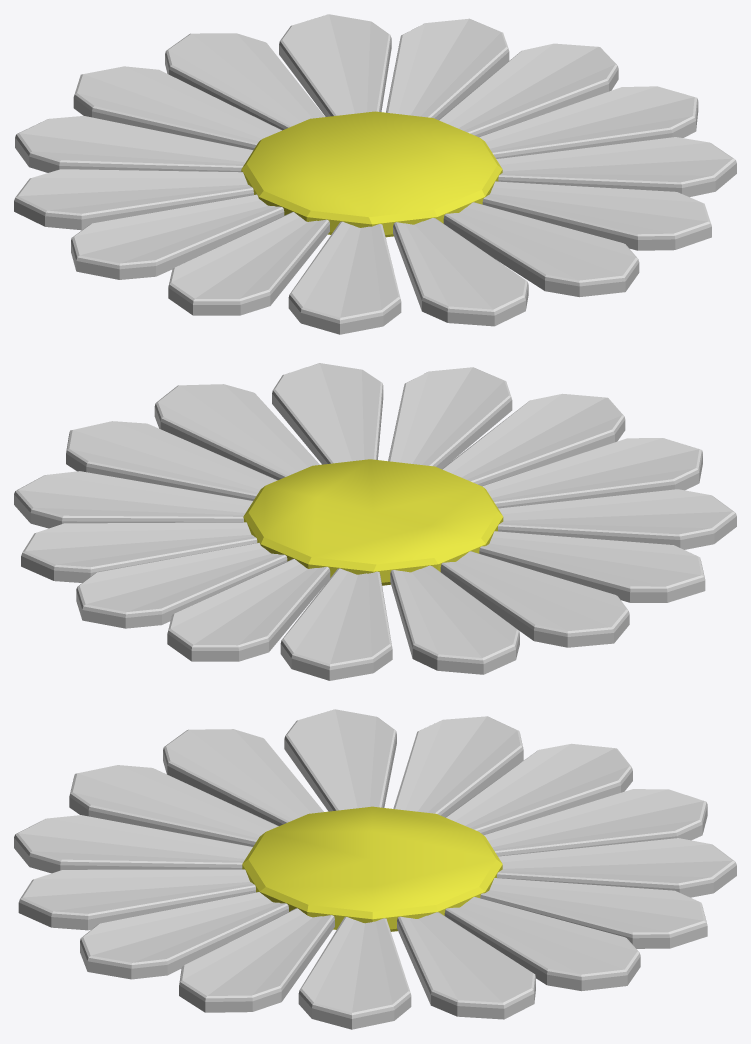
File: Flower_00.fbx
3 renders of one model, top to bottom at view 1: azimuth 30°, elevation 25°; view 2: azimuth 150°, elevation 25°; view 3: azimuth 270°, elevation 25°, orthographic.
Parts seen in each view (by area): view 1: Flower_00; view 2: Flower_00; view 3: Flower_00.
Boxes of the visible parts, x1,y1,x2,y2 form: Flower_00: (14, 14, 736, 334); Flower_00: (14, 363, 736, 680); Flower_00: (14, 709, 736, 1029).
Size of the model in its own units: 23.17 by 0.7724 by 23.06.
